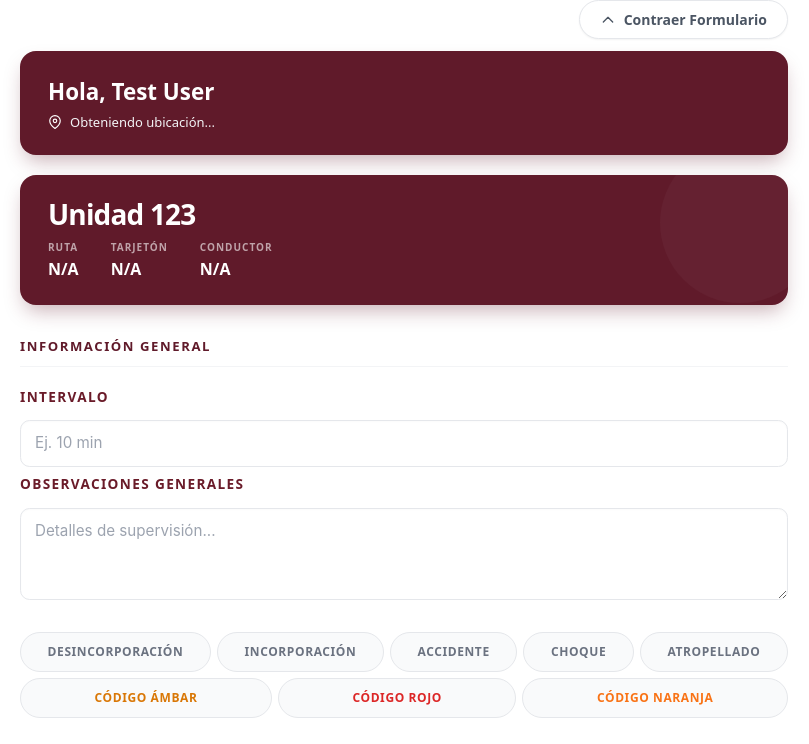
it: DetalleUnidadTitan › renders and allows tab switching without data contamination
# Initial state has no active tab body rendered until clicked, so let's click one
Click the button "Desincorporación" at coordinates (116, 652), box x1=20 y1=632 x2=211 y2=672
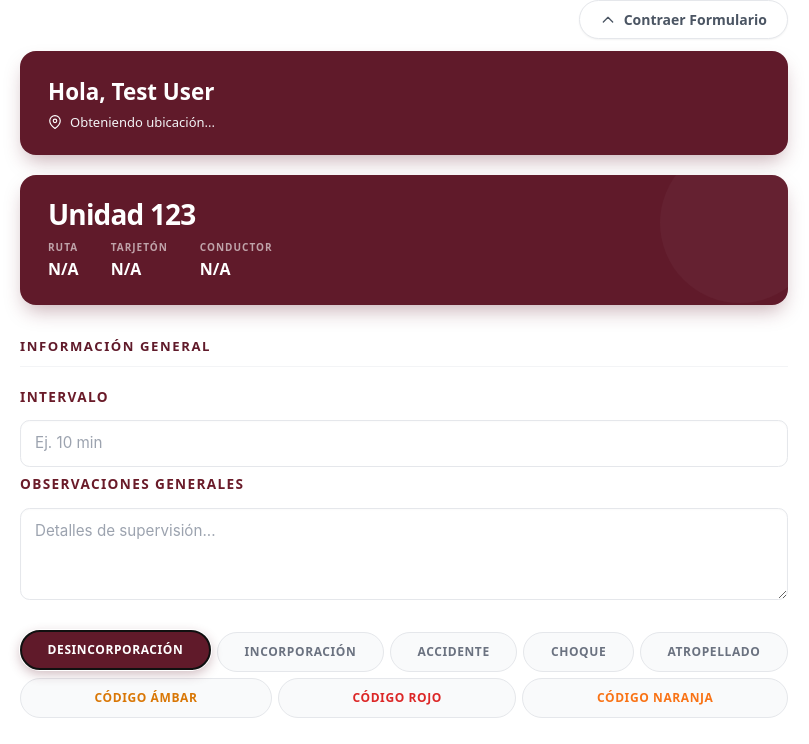
# Switch to Código Naranja
Click the button "Código Naranja" at coordinates (655, 698), box x1=522 y1=678 x2=788 y2=718
(page scrolled)
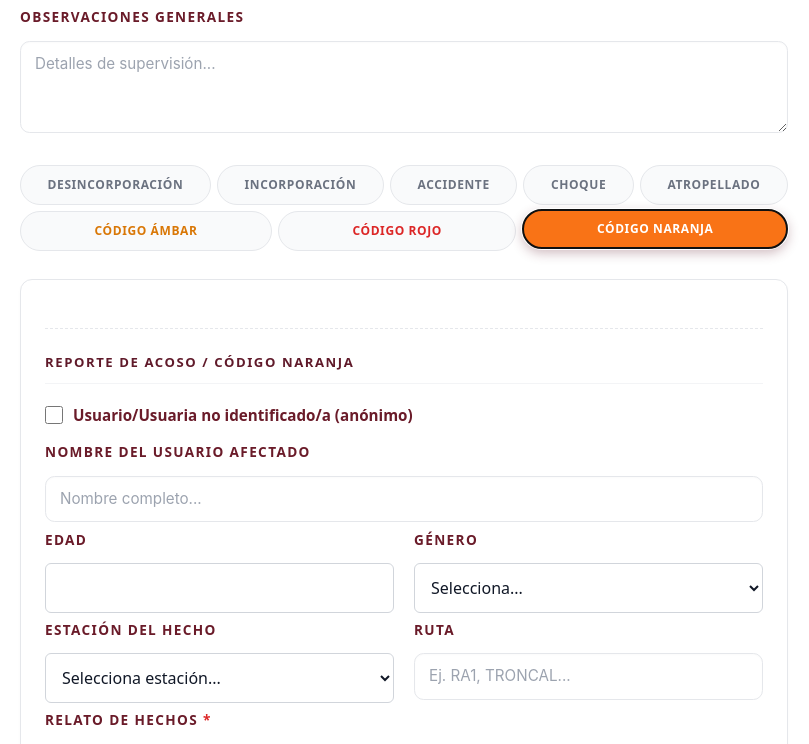
Check: the heading "REPORTE DE ACOSO / CÓDIGO NARANJA" is shown, box x1=45 y1=353 x2=763 y2=384
